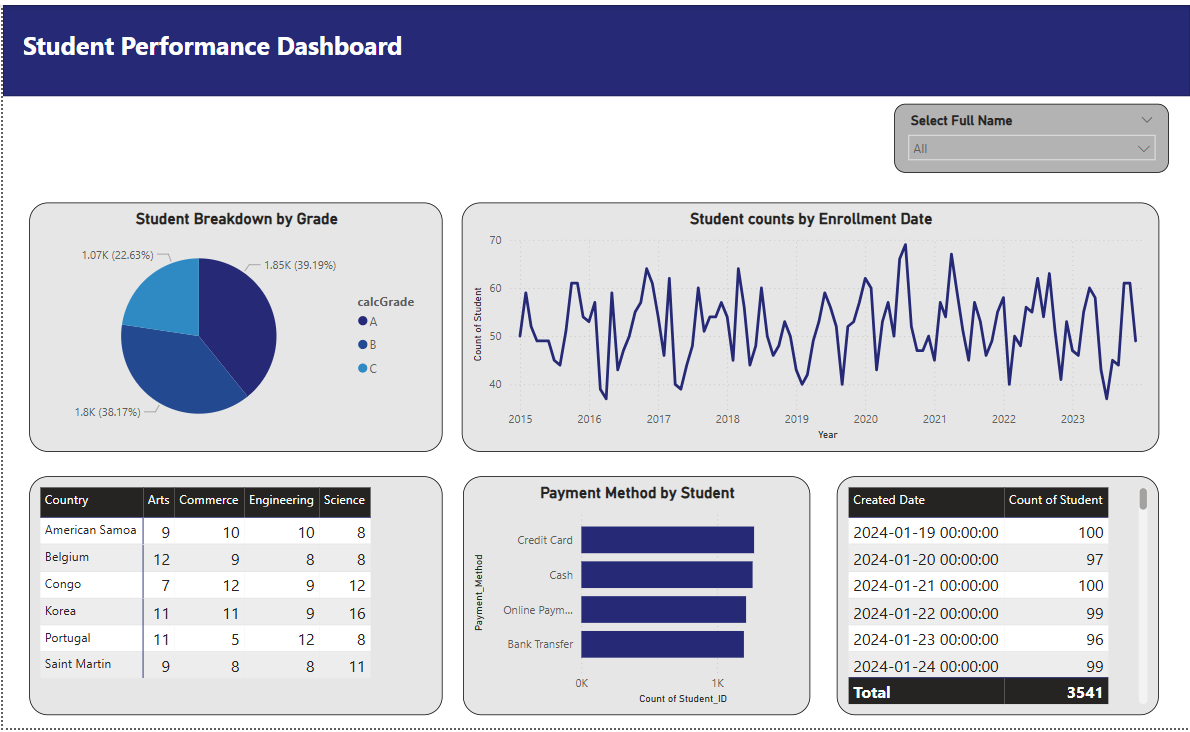

The dashboard page shown, as its layout file describes it:
{"tool":"powerbi","page":{"name":"Page 1","canvas":[1280,780],"ordinal":0},"visuals":[{"type":"pieChart","title":"Student Breakdown by Grade","fields":{"Y":["mydatabase exams_data.Student_ID"],"Category":["mydatabase exams_data.calcGrade"]},"box":[28.8,212.7,446,269],"z":0},{"type":"actionButton","box":[0,0,100,40],"z":1000},{"type":"shape","box":[0,0,1280,98.3],"z":2000},{"type":"textbox","box":[16.2,19.9,445.3,73.4],"z":3000},{"type":"lineChart","title":"Student counts by Enrollment Date","fields":{"Y":["mydatabase student_data.Student_ID"],"Category":["mydatabase student_data.Enrollment_Date.Variation.Date Hierarchy.Year","mydatabase student_data.Enrollment_Date.Variation.Date Hierarchy.Month"]},"box":[494,212.7,752,269],"z":4000},{"type":"pivotTable","fields":{"Rows":["mydatabase student_data.Student_Country"],"Columns":["mydatabase student_data.Department"],"Values":["mydatabase student_data.Student_ID"]},"box":[28.8,507.7,446,258],"z":5000},{"type":"barChart","title":"Payment Method by Student","fields":{"Y":["mydatabase payments_data.Student_ID"],"Category":["mydatabase payments_data.Payment_Method"]},"box":[495.4,507.7,374.6,258],"z":6000},{"type":"slicer","fields":{"Values":["mydatabase student_data.Full name"]},"box":[960.6,107,296.4,74.1],"z":7000},{"type":"tableEx","fields":{"Values":["mydatabase exams_data.created_date","mydatabase exams_data.Student_ID"]},"box":[898.8,507.7,347.2,258],"z":8000}]}

Visuals, with their boxes in screenshot pixels (x1, y1, x2, y2), scaled from the page's 1280x780 canvas onto the 1190x732 screenshot:
"Student Breakdown by Grade" pieChart: bbox=[27, 200, 441, 452]
actionButton: bbox=[0, 0, 93, 38]
shape: bbox=[0, 0, 1189, 92]
textbox: bbox=[15, 19, 429, 88]
"Student counts by Enrollment Date" lineChart: bbox=[459, 200, 1158, 452]
pivotTable - mydatabase student_data.Student_Country x mydatabase student_data.Department: bbox=[27, 476, 441, 719]
"Payment Method by Student" barChart: bbox=[461, 476, 809, 719]
slicer - mydatabase student_data.Full name: bbox=[893, 100, 1169, 170]
tableEx - mydatabase exams_data.created_date x mydatabase exams_data.Student_ID: bbox=[836, 476, 1158, 719]
